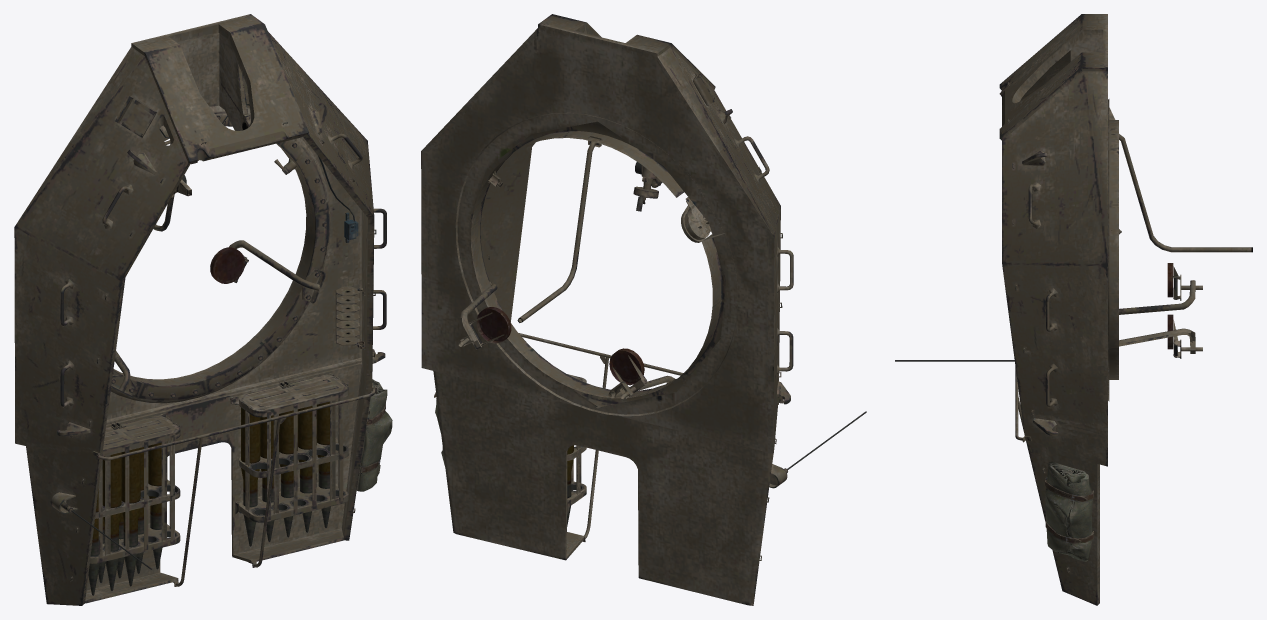
The model's file is Turret_01.glb.
The picture shows the model from 3 angles, left to right: view 1: azimuth 30°, elevation 25°; view 2: azimuth 150°, elevation 25°; view 3: azimuth 270°, elevation 25°; orthographic projection. The views are drawn at different scales.
Visible parts, largest first — view 1: set_0_group_0; view 2: set_0_group_0, set_0_group_1; view 3: set_0_group_0.
Boxes of the visible parts, left/top/right/bottom form: set_0_group_0: left=14, top=14, right=392, bottom=605; set_0_group_0: left=421, top=14, right=866, bottom=605; set_0_group_1: left=633, top=162, right=662, bottom=211; set_0_group_0: left=895, top=14, right=1252, bottom=605.
Size of the model in its own units: 2.82 by 4.06 by 2.65.
Materials: 2 (2 with a texture image).
